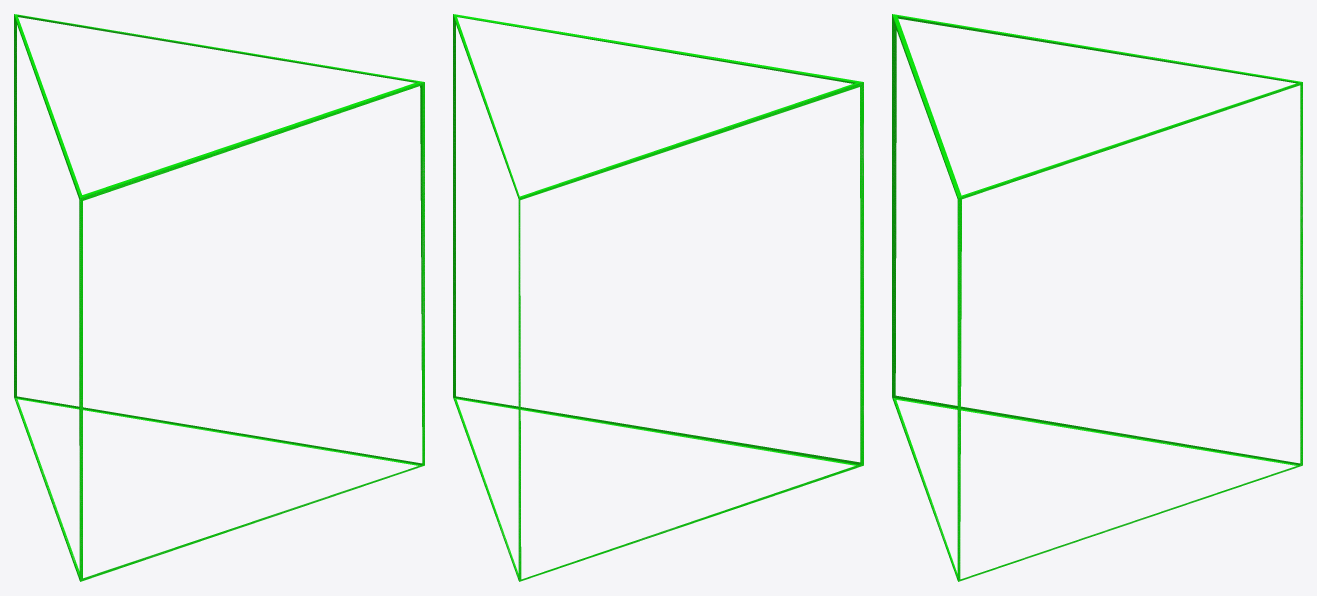
Rendered from prisma.dae.
3 views of the same model, side by side, from view 1: azimuth 30°, elevation 25°; view 2: azimuth 150°, elevation 25°; view 3: azimuth 270°, elevation 25° (orthographic).
Visible parts, largest first — view 1: SketchUp (×2); view 2: SketchUp (×2); view 3: SketchUp (×2).
Part boxes in pixels (bbox=[...]): SketchUp (×2): bbox=[14, 14, 424, 581]; SketchUp (×2): bbox=[453, 14, 863, 581]; SketchUp (×2): bbox=[892, 14, 1302, 581].
Size of the model in its own units: 198 by 186 by 192.
